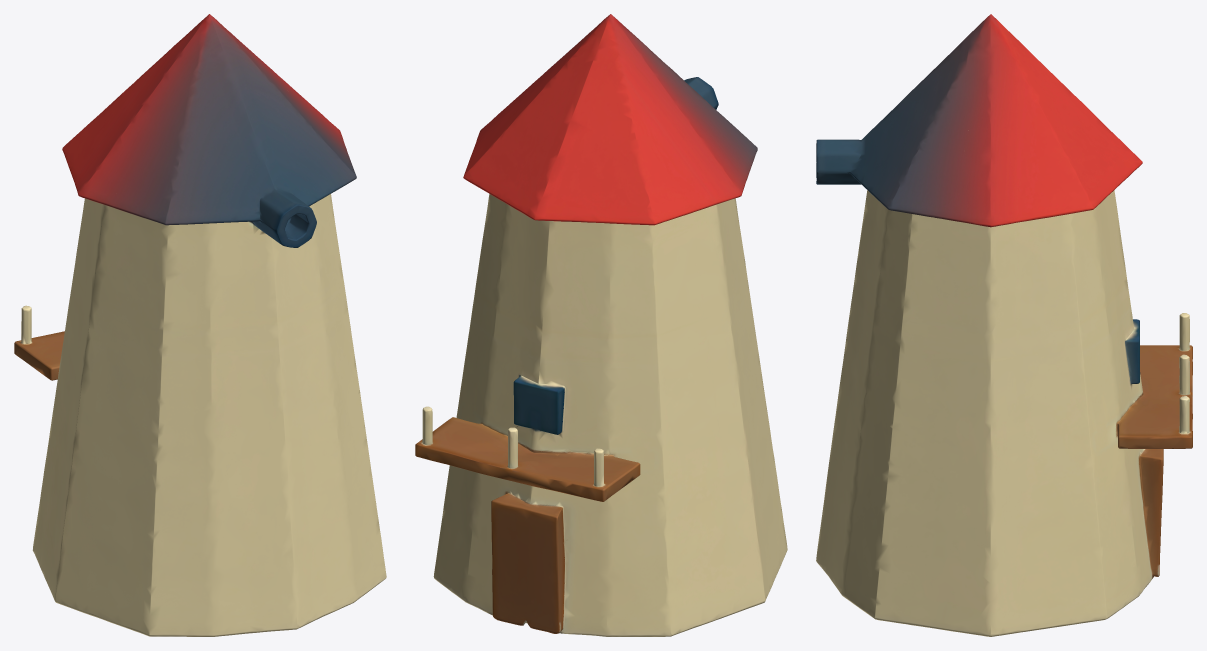
The model's file is windmill.glb.
3 views of the same model, side by side, from view 1: azimuth 30°, elevation 25°; view 2: azimuth 150°, elevation 25°; view 3: azimuth 270°, elevation 25° (orthographic).
Visible parts, largest first — view 1: tripo_node_cbdc4d8b-e6e1-43f9-9838-932b78f5c26d; view 2: tripo_node_cbdc4d8b-e6e1-43f9-9838-932b78f5c26d; view 3: tripo_node_cbdc4d8b-e6e1-43f9-9838-932b78f5c26d.
Part boxes in pixels (x1=…): tripo_node_cbdc4d8b-e6e1-43f9-9838-932b78f5c26d: x1=14, y1=14, x2=386, y2=636; tripo_node_cbdc4d8b-e6e1-43f9-9838-932b78f5c26d: x1=415, y1=14, x2=787, y2=636; tripo_node_cbdc4d8b-e6e1-43f9-9838-932b78f5c26d: x1=816, y1=14, x2=1192, y2=636.
Bounding box in the file's own units: 0.5858 × 1 × 0.6218.
1 material, 1 textured.
